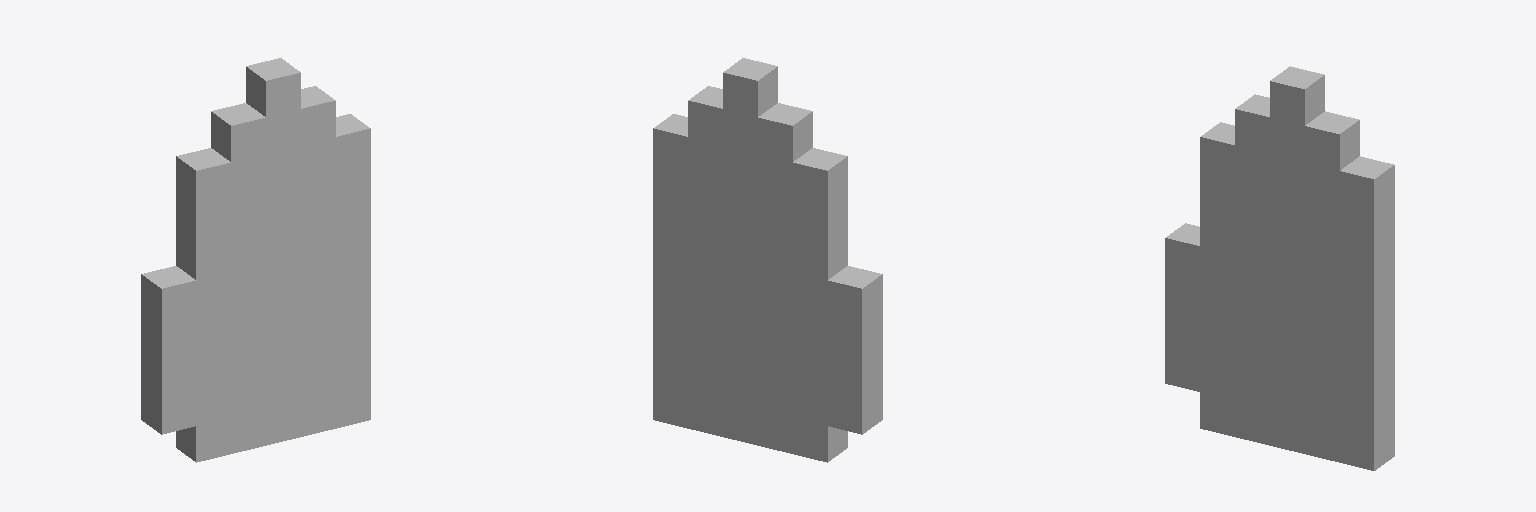
The model's file is gun.obj.obj.
3 renders of one model, left to right at view 1: azimuth 30°, elevation 25°; view 2: azimuth 150°, elevation 25°; view 3: azimuth 330°, elevation 25°, orthographic.
Size of the model in its own units: 6 by 10 by 1.